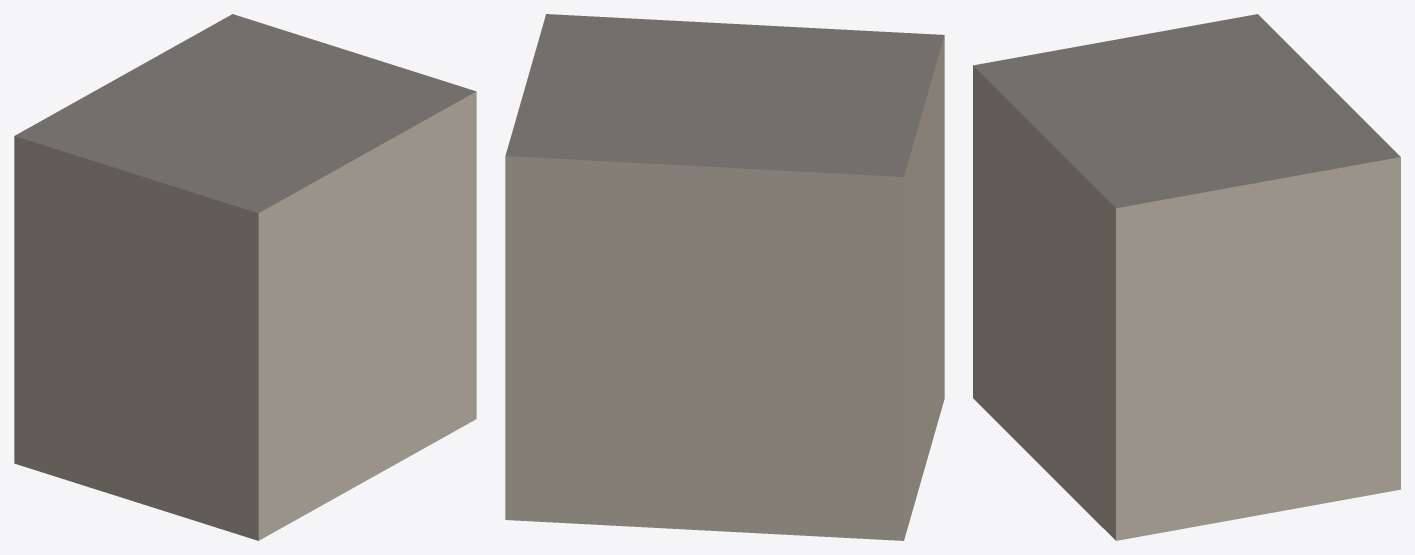
3 renders of one model, left to right at view 1: azimuth 30°, elevation 25°; view 2: azimuth 150°, elevation 25°; view 3: azimuth 270°, elevation 25°, orthographic. The views are drawn at different scales.
Visible parts, largest first — view 1: HP-w1327395987; view 2: HP-w1327395987; view 3: HP-w1327395987.
Boxes of the visible parts, x1,y1,x2,y2 form: HP-w1327395987: (14, 14, 476, 540); HP-w1327395987: (505, 14, 944, 540); HP-w1327395987: (973, 14, 1400, 540).
Size of the model in its own units: 22.54 by 18 by 20.98.
